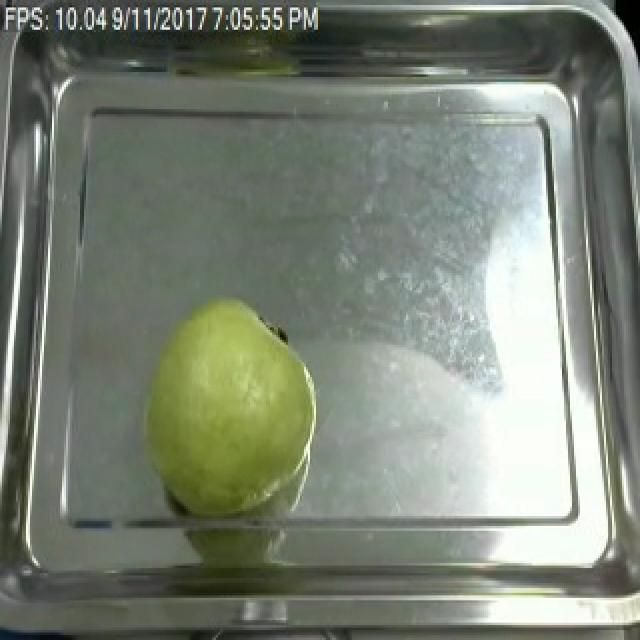Fruit: (132, 288, 328, 526)
